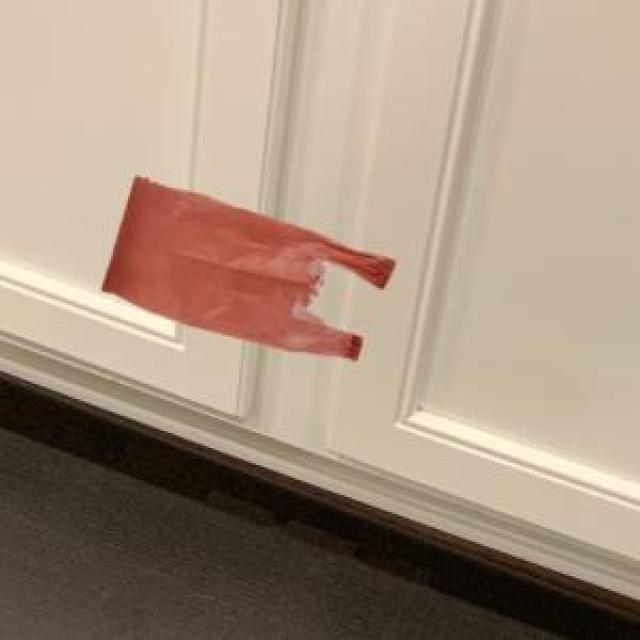waste: (104, 179, 392, 359)
